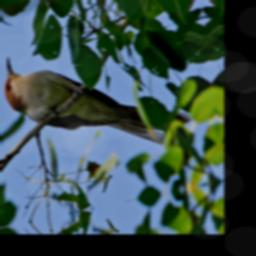Cuckoo: (0, 20, 195, 182)
